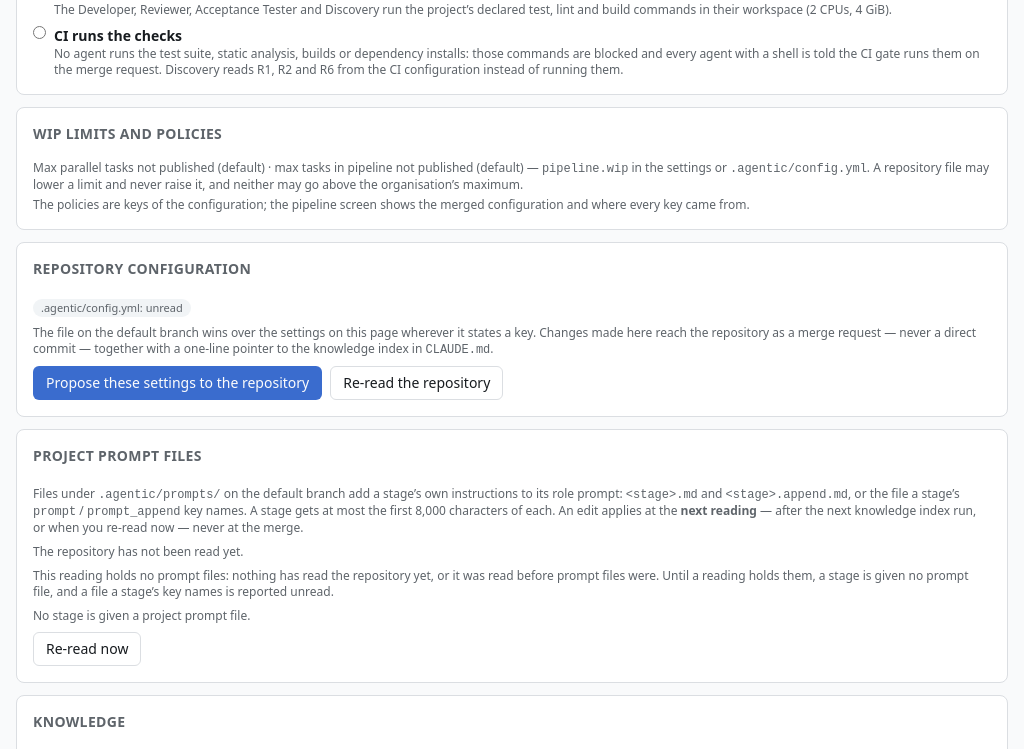
Test: the configuration the server reports (WP-91) › says a second press opened nothing when the previous merge request is still open
The image size is (1024, 749).
(page scrolled)
Click the button "Propose these settings to the repository".
click(178, 384)  # box [33,366,322,400]
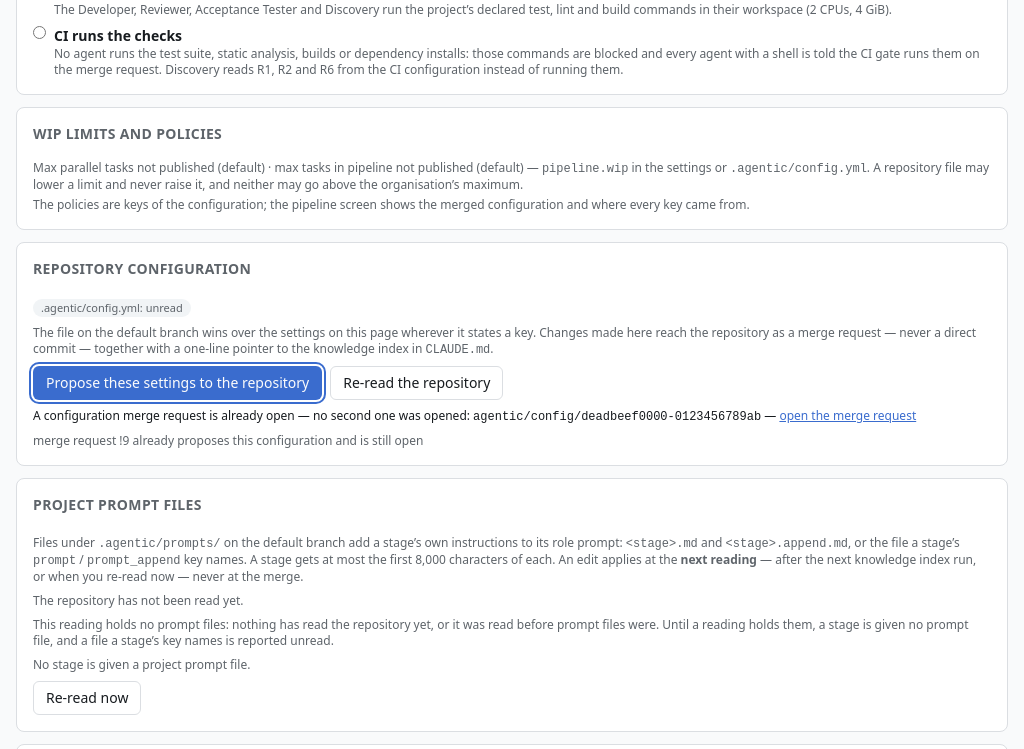
Check: the text "no second one was opened" is shown, box [33,408,473,424]
Check: the text "!9 already proposes this configuration" is shown, box [33,432,423,450]
